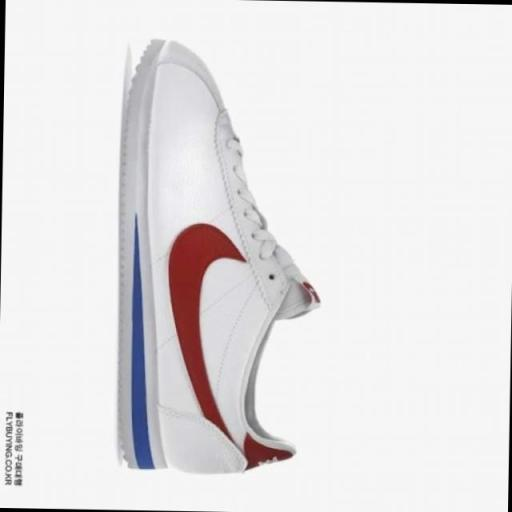Nike: (162, 216, 246, 459)
